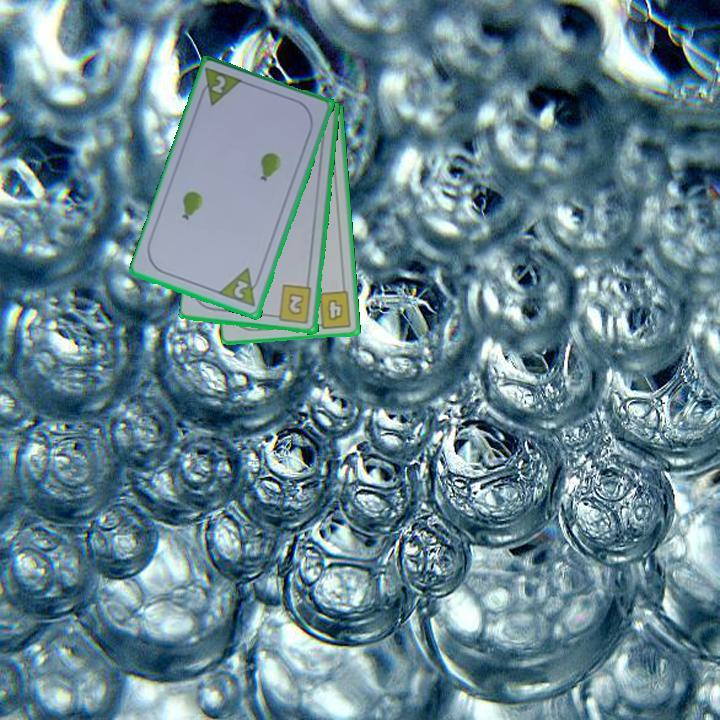2b: (270, 282, 315, 327)
2p: (195, 65, 246, 109), (216, 265, 265, 310)
4b: (311, 287, 355, 331)
